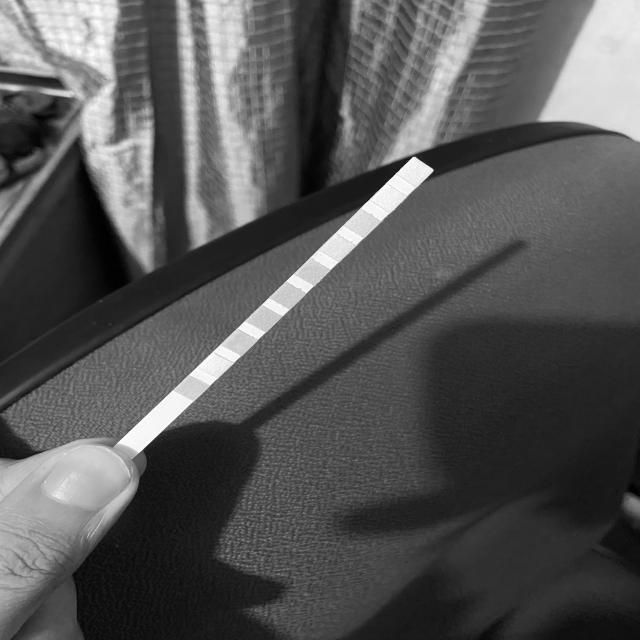Bilirubin: (205, 359, 225, 372)
Blood: (279, 289, 298, 302)
Glucose: (182, 382, 201, 395)
Ketone: (229, 336, 249, 349)
Leukocytes: (406, 165, 426, 179)
Nitrite: (378, 192, 398, 204)
Protein: (327, 240, 347, 254)
SpGravity: (254, 312, 273, 326)
Urobilinogen: (353, 217, 373, 230)
background: (0, 0, 640, 640)
pH: (303, 264, 322, 278)
strip: (115, 157, 434, 457)
